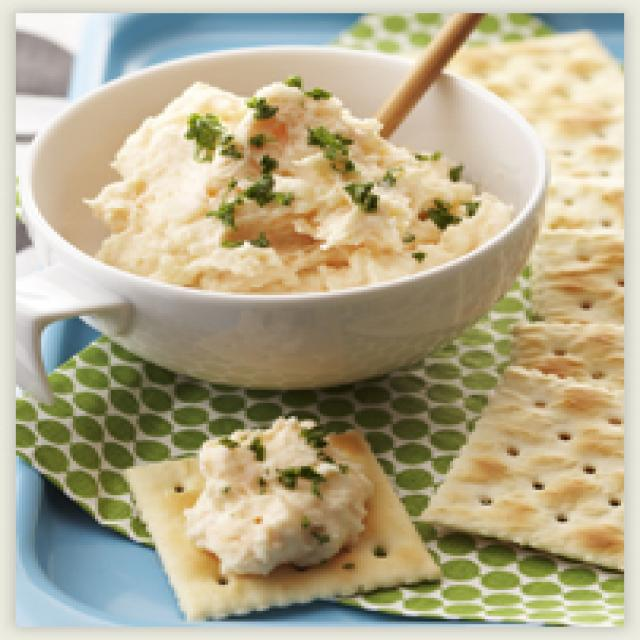蔬菜料理: (9, 37, 554, 395)
